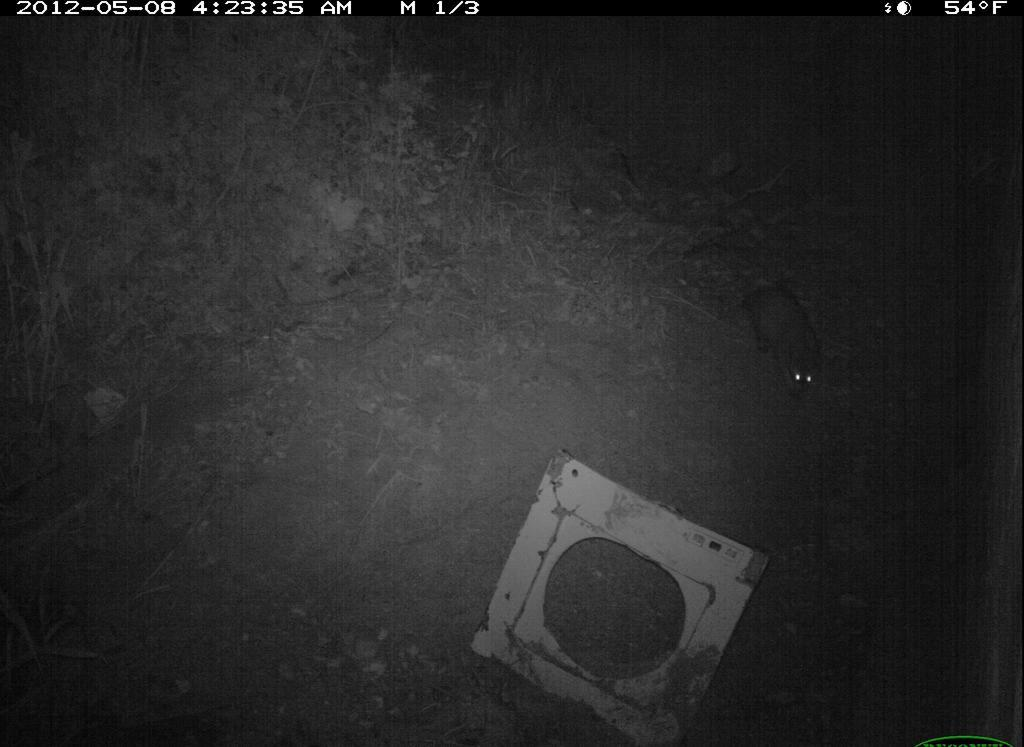raccoon: (737, 272, 826, 413)
